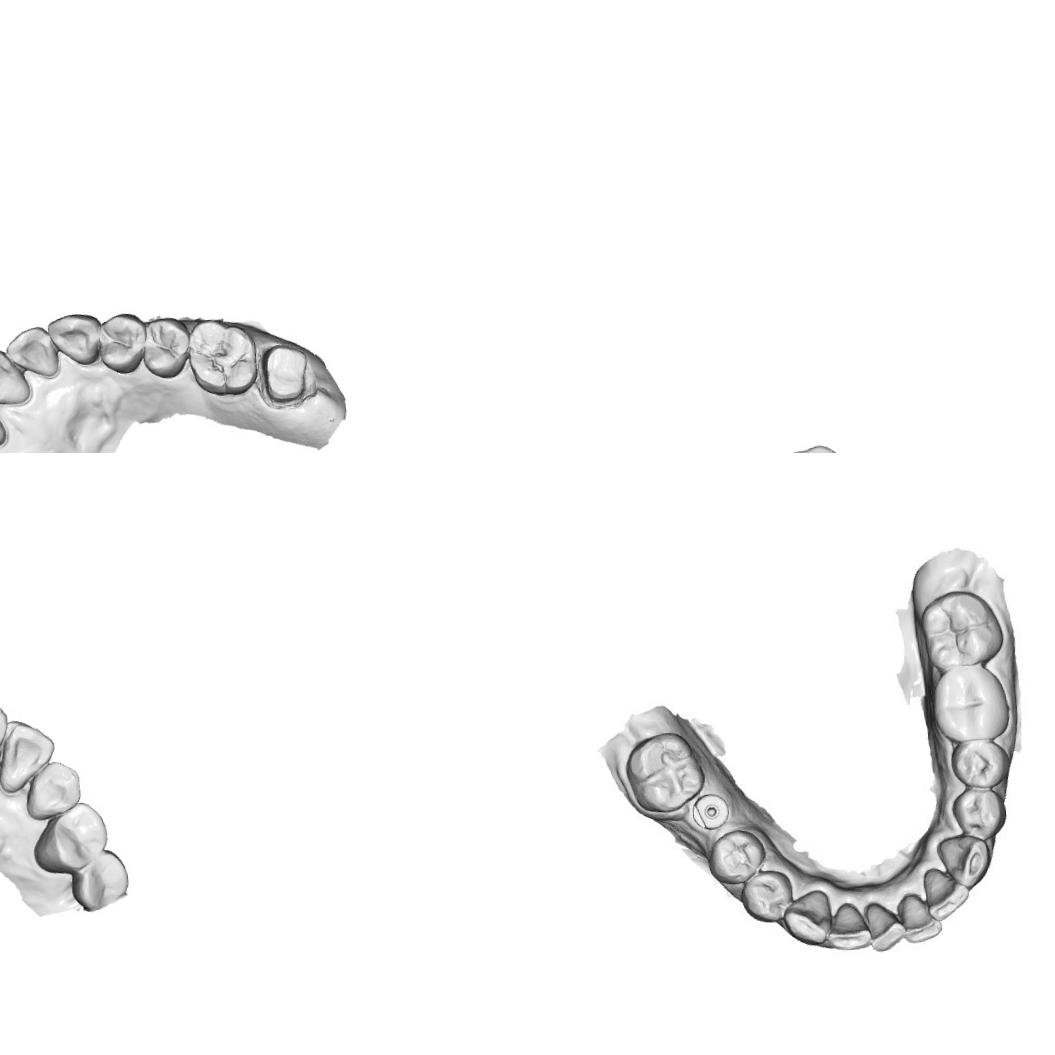canine: (22, 758, 84, 821), (778, 883, 836, 946), (934, 830, 992, 891), (45, 310, 103, 368)
crown: (257, 338, 316, 407)
implant: (686, 788, 734, 835)
incisor: (0, 715, 58, 795), (2, 324, 60, 382), (918, 863, 970, 922), (897, 888, 942, 945), (862, 898, 907, 954), (825, 900, 870, 952), (0, 344, 32, 410)
molar: (916, 584, 1010, 673), (621, 726, 710, 817), (926, 661, 1014, 746), (184, 315, 260, 400)
premolar: (28, 798, 110, 876), (66, 847, 136, 913), (704, 826, 768, 889), (136, 314, 192, 380), (93, 310, 147, 376), (948, 781, 1006, 842), (948, 736, 1011, 792), (739, 865, 794, 925)
